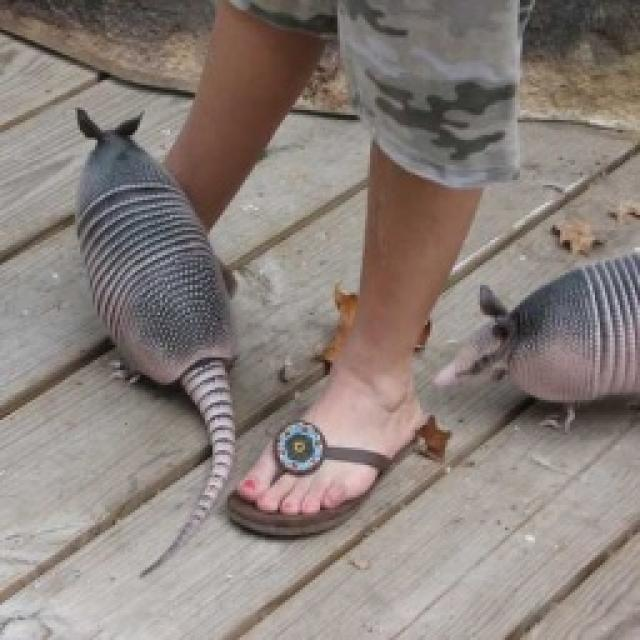not_pig: (70, 105, 240, 575), (430, 237, 638, 432)
